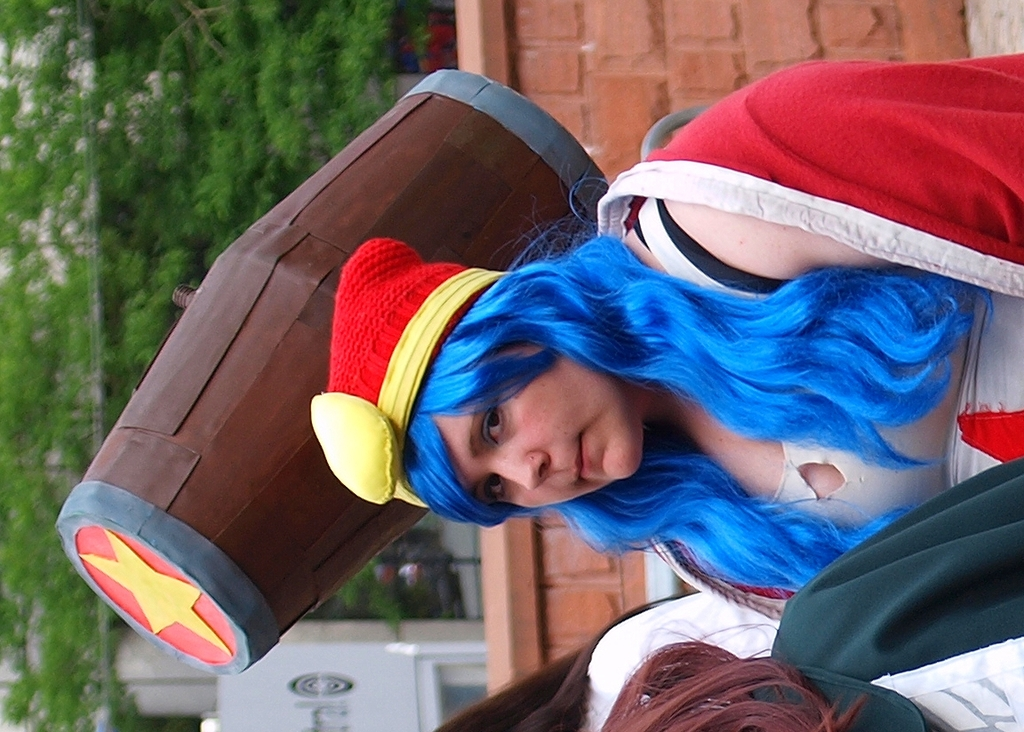Person: (429, 454, 1024, 732)
